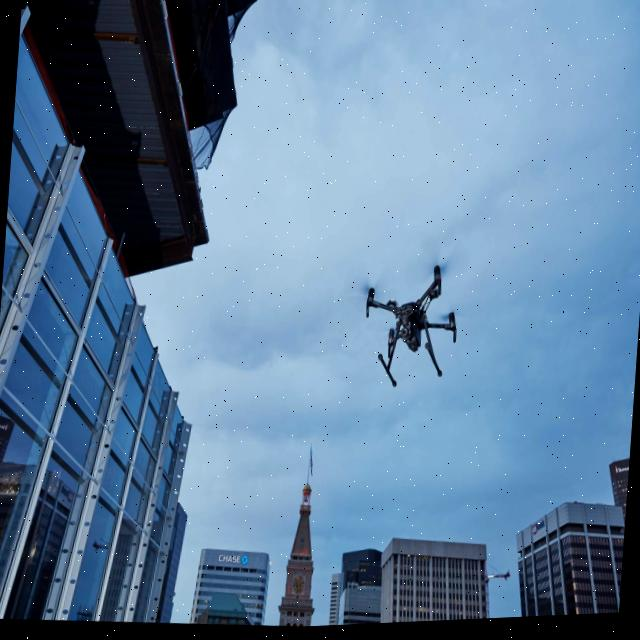drone: (308, 216, 520, 419)
